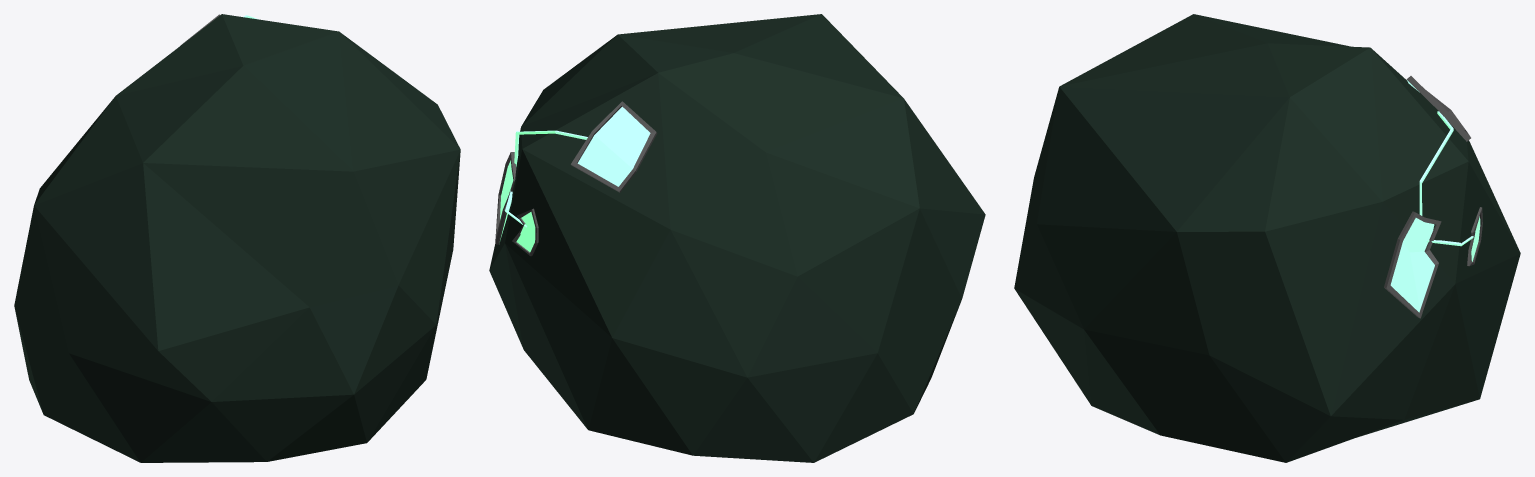
Rendered from anika_bush (3).fbx.
The picture shows the model from 3 angles, left to right: view 1: azimuth 30°, elevation 25°; view 2: azimuth 150°, elevation 25°; view 3: azimuth 270°, elevation 25°; orthographic projection. The views are drawn at different scales.
Parts seen in each view (by area): view 1: Icosphere; view 2: Icosphere, Cube.001; view 3: Icosphere, Cube.001.
Boxes of the visible parts, x1,y1,x2,y2 form: Icosphere: (14,14,460,462); Icosphere: (489,14,985,462); Cube.001: (495,101,657,256); Icosphere: (1014,14,1520,462); Cube.001: (1384,76,1482,318).
Bounding box in the file's own units: 209 × 177 × 209.
